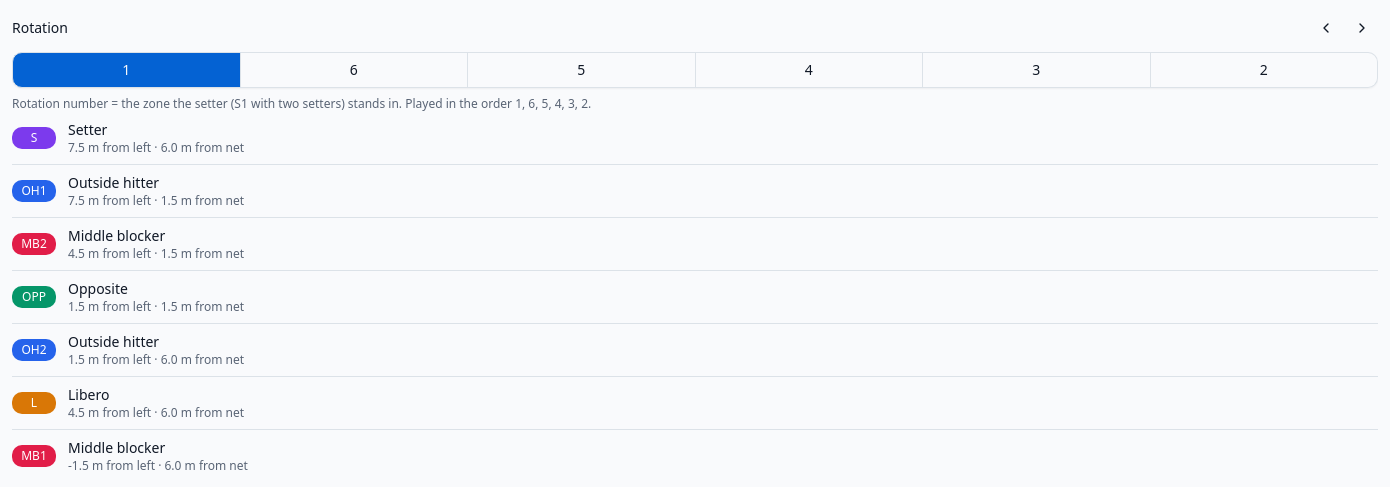
Test case: RotationPicker › picking rotation 4 puts the setter in zone 4
Step 1. Click the radio button named "Rotation 4" → [809, 70], box [696,52,923,88]
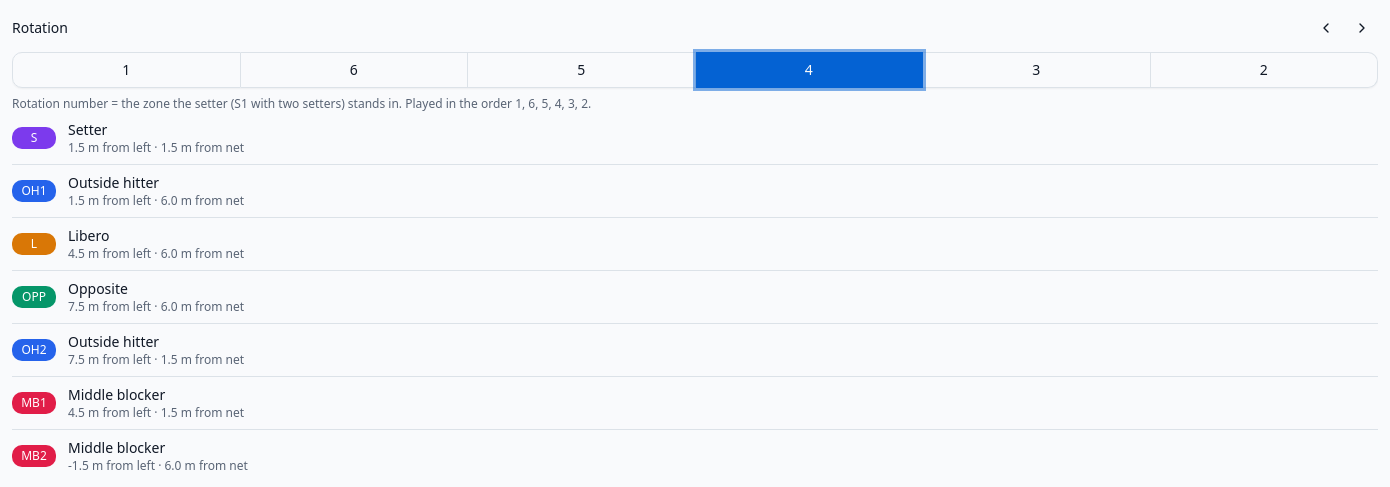
Check: the list item with test id "player" reads "S Setter 1.5 m from left · 1.5 m from net", box [12,112,1378,165]
